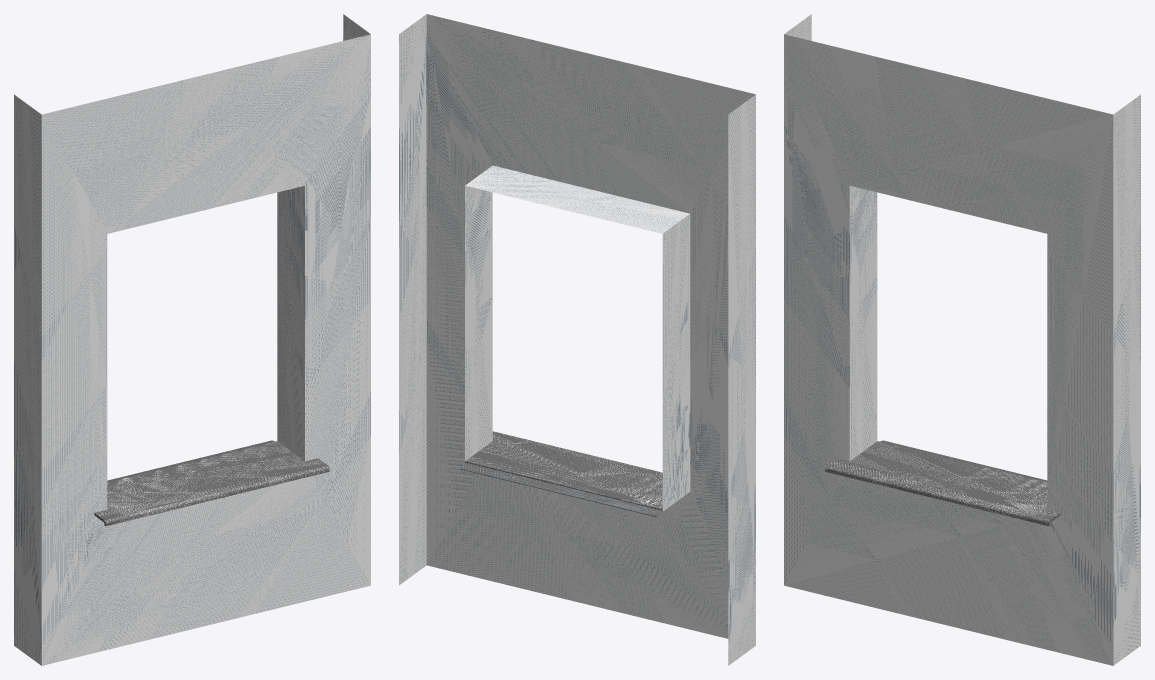
File: WindowBlock_os_[250x400]_150x200x[100].dae
3 views of the same model, side by side, from view 1: azimuth 30°, elevation 25°; view 2: azimuth 150°, elevation 25°; view 3: azimuth 330°, elevation 25° (orthographic).
Visible parts, largest first — view 1: group_2 (×2), group_1; view 2: group_2 (×2), group_1 (×2); view 3: group_2 (×2), group_1.
Part boxes in pixels (bbox=[...]): group_2 (×2): bbox=[14, 14, 370, 665]; group_1: bbox=[94, 441, 329, 526]; group_2 (×2): bbox=[399, 14, 755, 665]; group_1 (×2): bbox=[459, 431, 662, 517]; group_2 (×2): bbox=[784, 14, 1140, 665]; group_1: bbox=[825, 441, 1060, 526].
Bounding box in the file's own units: 98.43 × 23.03 × 157.
